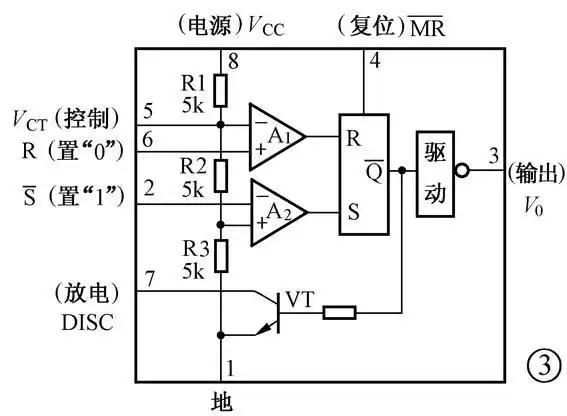bistable flip-flop: (341, 114, 388, 234)
comparator1: (248, 102, 306, 171), (251, 179, 309, 246)
discharge circuit: (255, 287, 280, 338)
output circuit: (416, 131, 453, 218)
reset circuit: (347, 45, 383, 69)
resistance: (215, 239, 228, 272), (215, 159, 227, 192), (214, 74, 226, 106)
